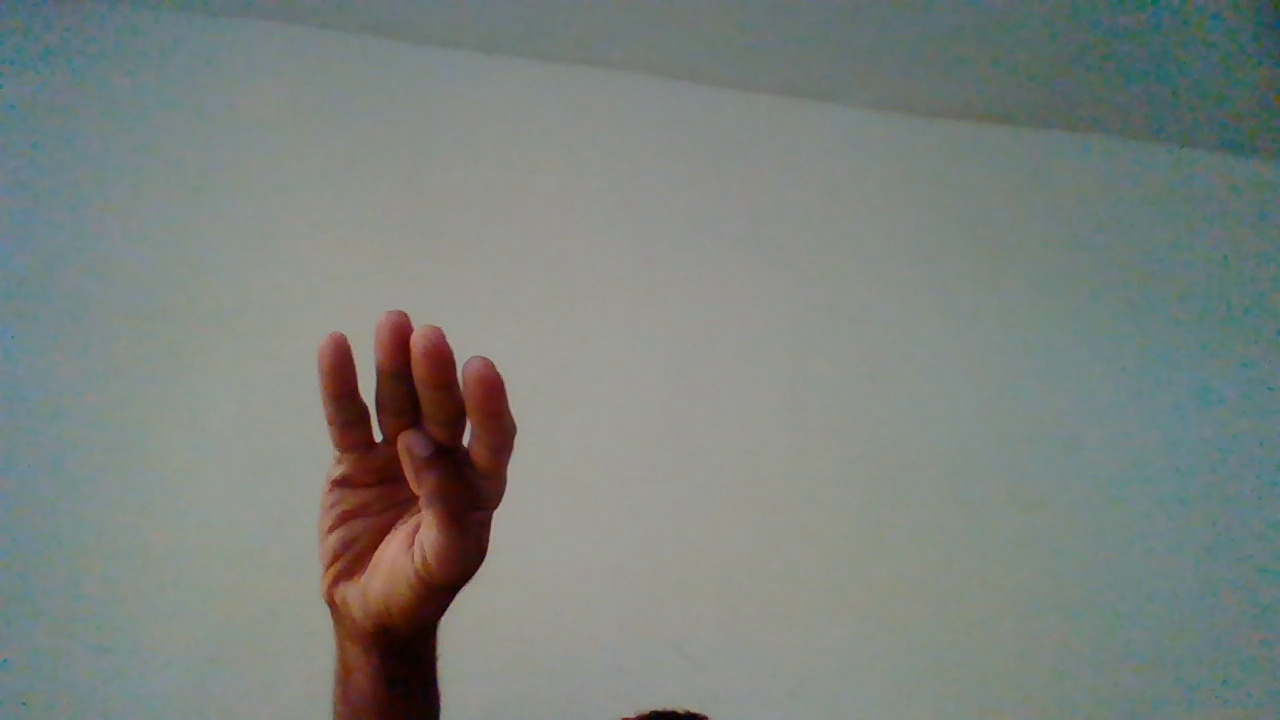me: (310, 310, 517, 700)
